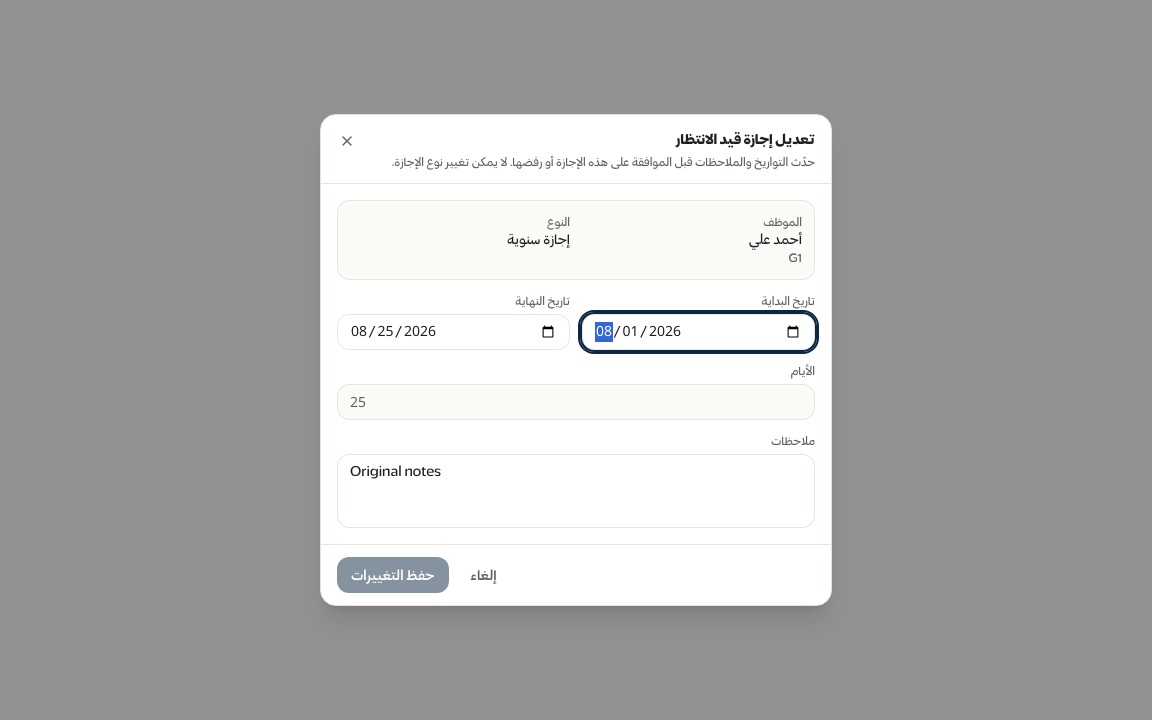
Test case: EditLeaveDialog › blocks end-before-start with localized validation in ar
In the date field labelled "تاريخ النهاية": coordinates (454, 332) top-left (337, 314), bottom-right (570, 350), type "2026-07-31"
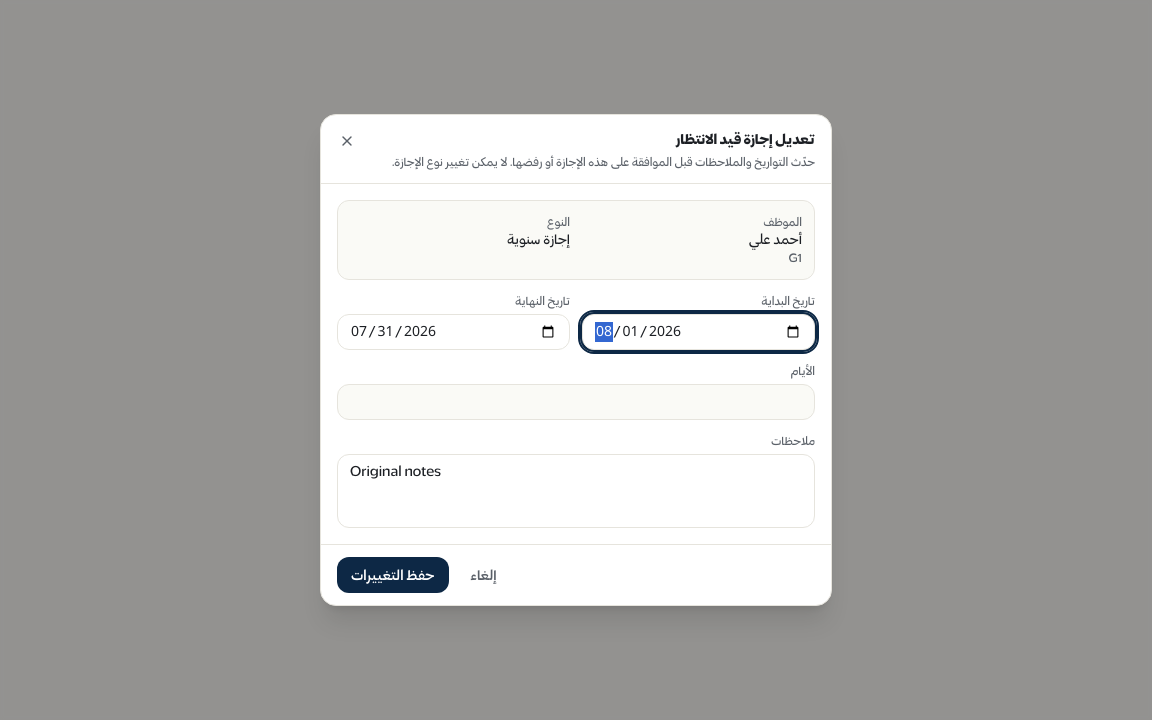
Click the button "حفظ التغييرات": coordinates (393, 575) top-left (337, 557), bottom-right (448, 593)
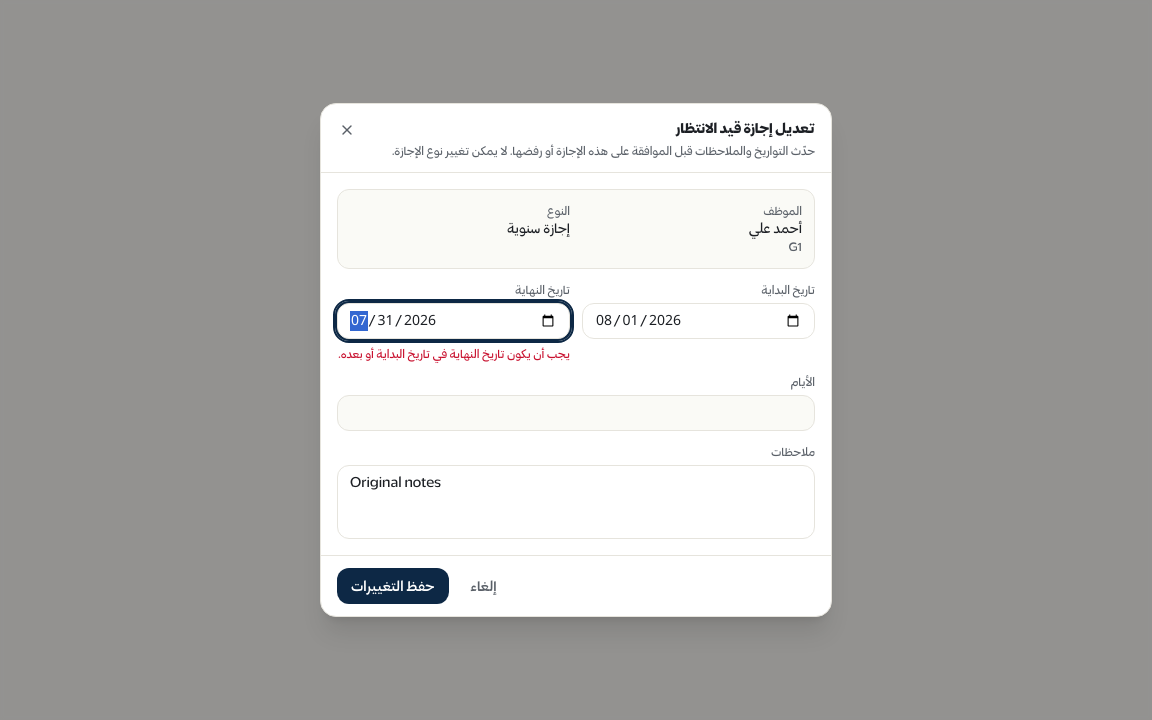
expect the message reads "يجب أن يكون تاريخ النهاية في تاريخ البداية أو بعده.": met, box top-left (338, 346), bottom-right (570, 360)
